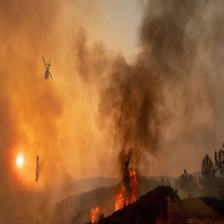fire: (81, 155, 164, 222)
